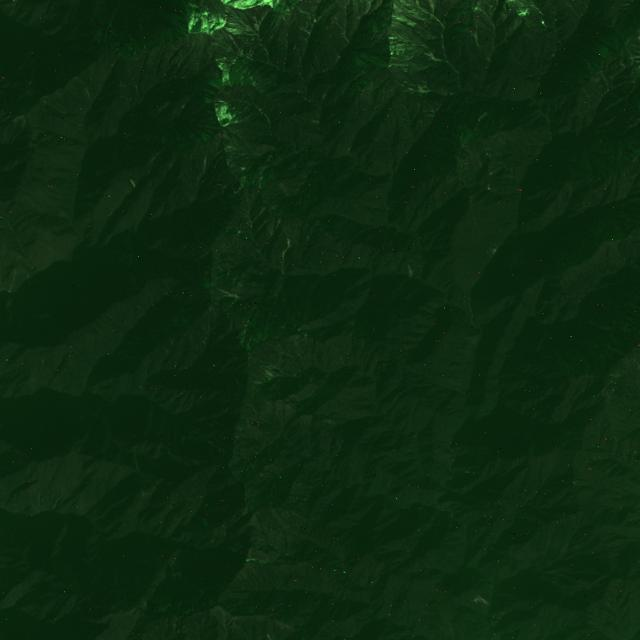landslides: (390, 19, 426, 47), (414, 0, 444, 28), (210, 27, 238, 56), (104, 1, 122, 39), (178, 34, 197, 69), (196, 20, 209, 71), (136, 54, 148, 102), (222, 21, 257, 36), (394, 0, 422, 18), (391, 54, 427, 68), (504, 17, 524, 42), (358, 0, 377, 22), (392, 8, 417, 24), (280, 239, 291, 275), (226, 32, 243, 55), (218, 24, 232, 49), (444, 0, 459, 20), (216, 287, 239, 299), (256, 12, 269, 33), (476, 2, 491, 20), (238, 9, 251, 27), (425, 51, 446, 62), (331, 18, 346, 33), (170, 549, 184, 564), (567, 4, 580, 20), (298, 7, 314, 20), (50, 496, 62, 513), (206, 41, 215, 63), (253, 207, 265, 223), (504, 175, 522, 185), (418, 84, 434, 95), (270, 71, 281, 87), (473, 24, 480, 48), (262, 370, 277, 381), (212, 42, 228, 52), (32, 501, 42, 517), (478, 595, 491, 607), (84, 87, 93, 103), (209, 305, 217, 323), (489, 168, 509, 175), (295, 341, 305, 355), (240, 58, 249, 73), (105, 312, 116, 324), (120, 83, 131, 95), (294, 45, 302, 61), (170, 126, 179, 140), (574, 0, 588, 9), (299, 475, 309, 487), (262, 365, 281, 371), (407, 263, 414, 279), (300, 26, 311, 36), (245, 11, 256, 21), (197, 516, 207, 527), (391, 57, 403, 66), (430, 61, 445, 68), (315, 55, 320, 76), (223, 56, 238, 63), (206, 71, 219, 79), (203, 86, 220, 92)
